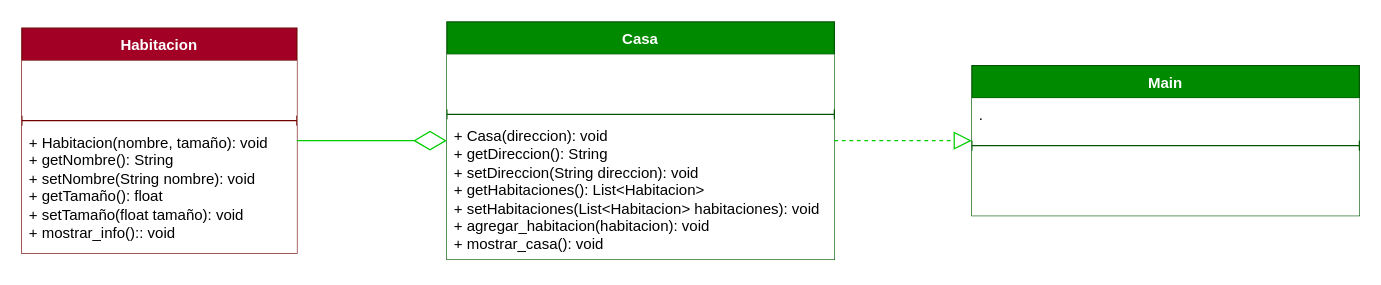
This 1381x285 diagram has some shape labels left out. Each missing label, with the box of its shape:
- direccion: String - habitaciones: List<Habitacion>: (446, 54, 834, 109)
- nombre: String - tamaño: float: (21, 60, 296, 115)
_+_ main(String[] args): void: (971, 150, 1359, 215)
